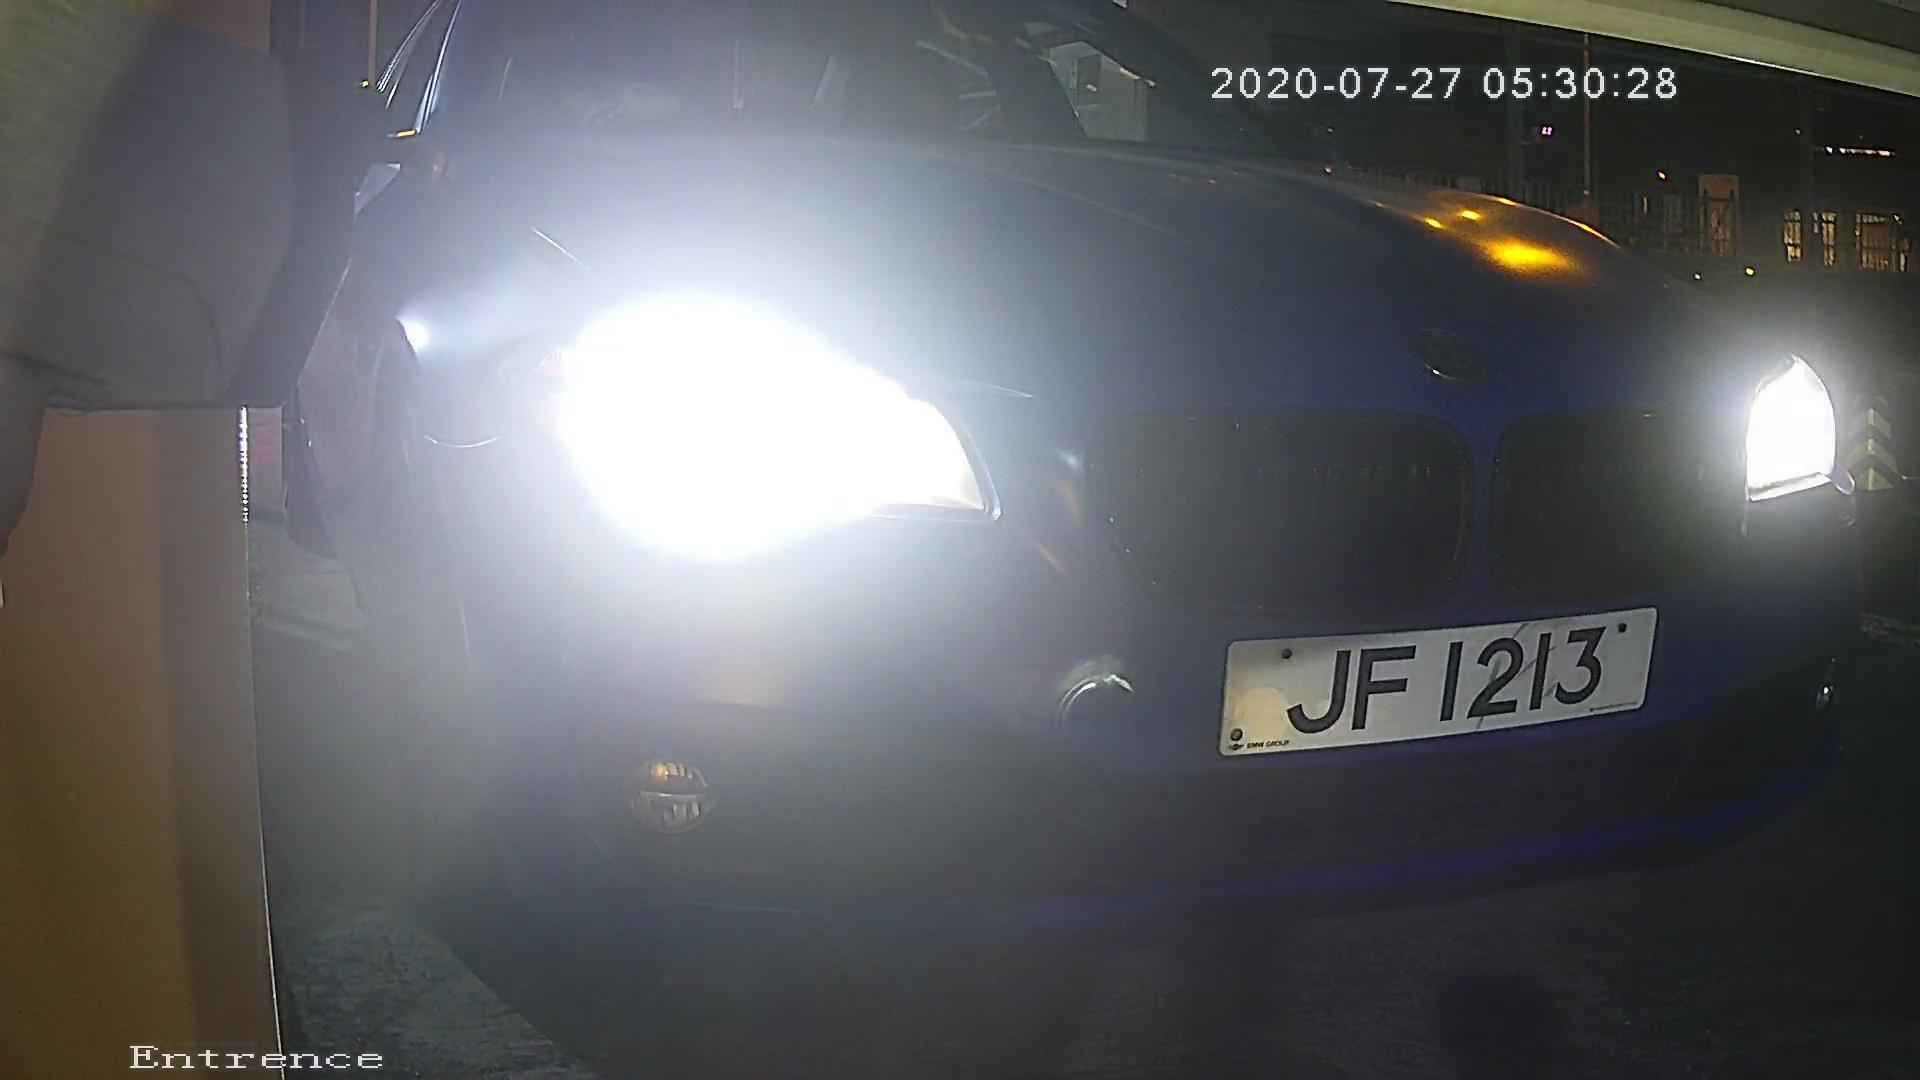Car: (86, 10, 1912, 999)
License Plate: (1192, 603, 1663, 762)
